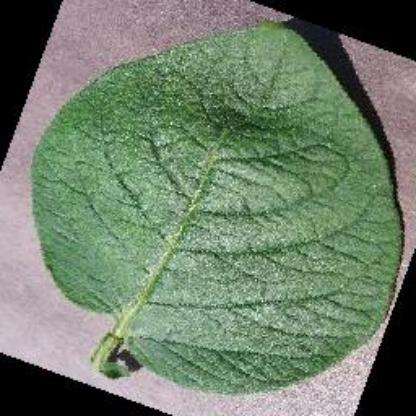Healthy-plant: (30, 18, 408, 394)
